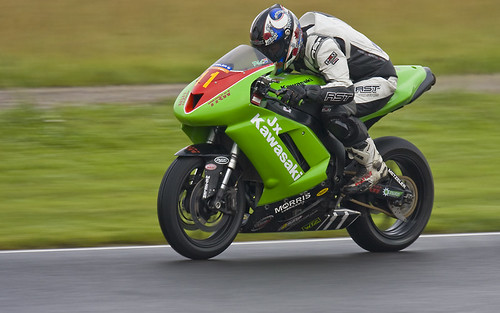helmet: (249, 3, 298, 66)
